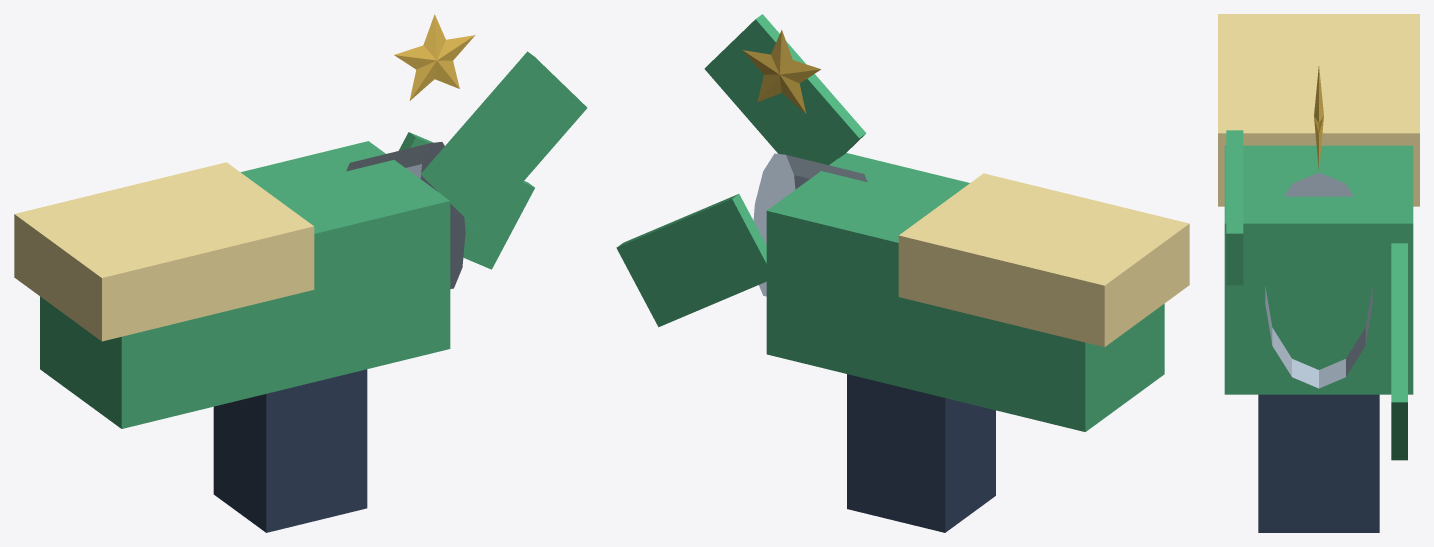
File: minglora_money_gun.gltf
3 renders of one model, left to right at view 1: azimuth 30°, elevation 25°; view 2: azimuth 150°, elevation 25°; view 3: azimuth 270°, elevation 25°, orthographic. The views are drawn at different scales.
Visible parts, largest first — view 1: minglora_money_gun0, minglora_money_gun3, minglora_money_gun1, minglora_money_gun4, minglora_money_gun5, minglora_money_gun6, minglora_money_gun2; view 2: minglora_money_gun0, minglora_money_gun3, minglora_money_gun1, minglora_money_gun5, minglora_money_gun4, minglora_money_gun2, minglora_money_gun6; view 3: minglora_money_gun0, minglora_money_gun3, minglora_money_gun1, minglora_money_gun5, minglora_money_gun2, minglora_money_gun4, minglora_money_gun6.
Boxes of the visible parts, box(x1,y1,x2,y2) form: minglora_money_gun0: box(40, 141, 450, 428); minglora_money_gun3: box(14, 162, 314, 341); minglora_money_gun1: box(213, 369, 367, 532); minglora_money_gun4: box(420, 51, 587, 230); minglora_money_gun5: box(398, 132, 534, 269); minglora_money_gun6: box(394, 14, 475, 100); minglora_money_gun2: box(346, 142, 465, 289); minglora_money_gun0: box(766, 153, 1164, 431); minglora_money_gun3: box(898, 173, 1189, 347); minglora_money_gun1: box(847, 374, 995, 532); minglora_money_gun5: box(616, 194, 766, 327); minglora_money_gun4: box(704, 14, 866, 165); minglora_money_gun2: box(753, 153, 867, 296); minglora_money_gun6: box(742, 30, 820, 113); minglora_money_gun0: box(1224, 145, 1413, 394); minglora_money_gun3: box(1218, 14, 1419, 206); minglora_money_gun1: box(1258, 394, 1379, 532); minglora_money_gun5: box(1391, 243, 1407, 460); minglora_money_gun2: box(1265, 172, 1372, 388); minglora_money_gun4: box(1226, 130, 1243, 285); minglora_money_gun6: box(1314, 66, 1323, 169).
Size of the model in its own units: 2.01 by 1.71 by 0.6.
